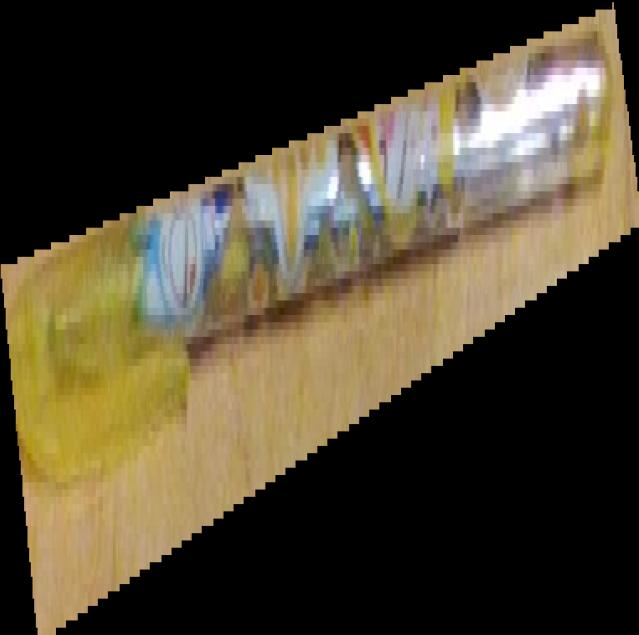yellow: (0, 0, 639, 635)
